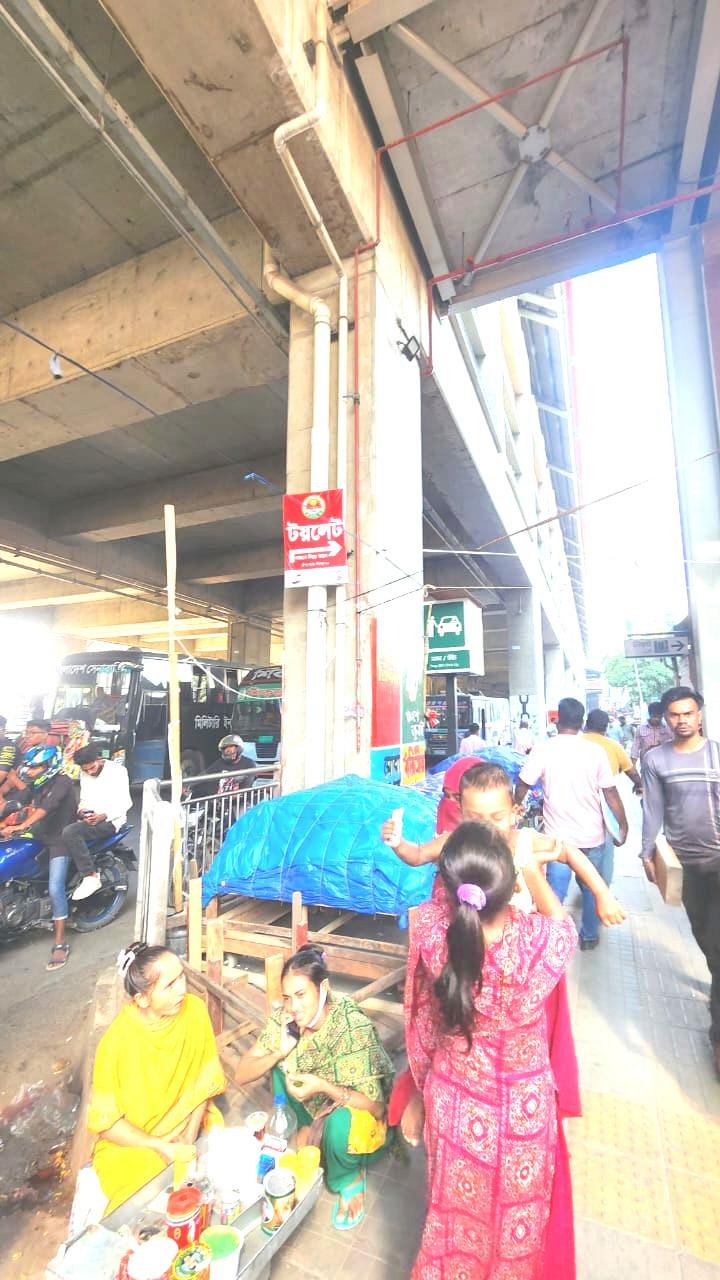Metro Dorp Up Pick up: (417, 581, 487, 682)
